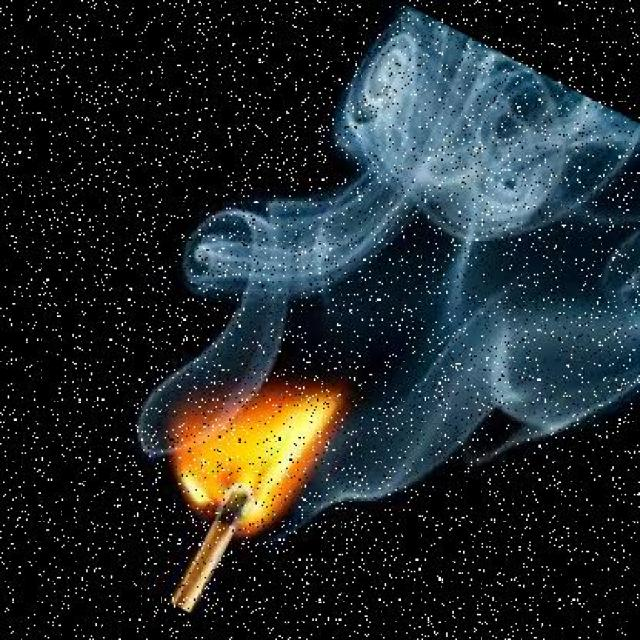fire: (122, 303, 389, 563)
